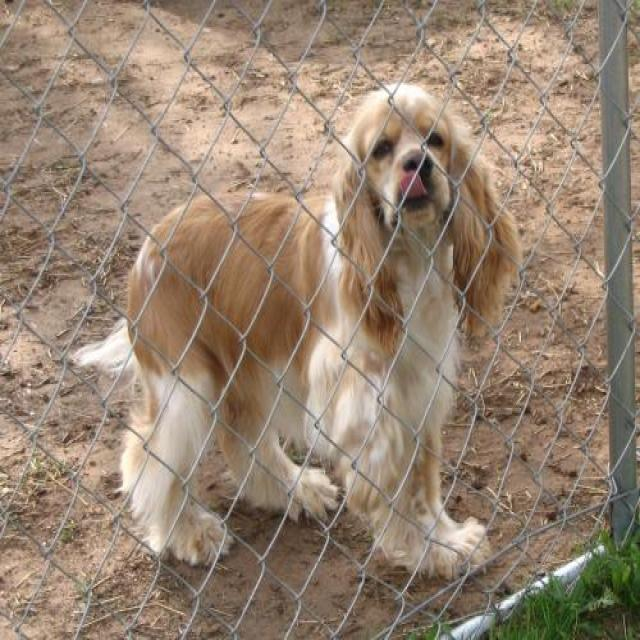Dogs: (69, 78, 524, 581)
